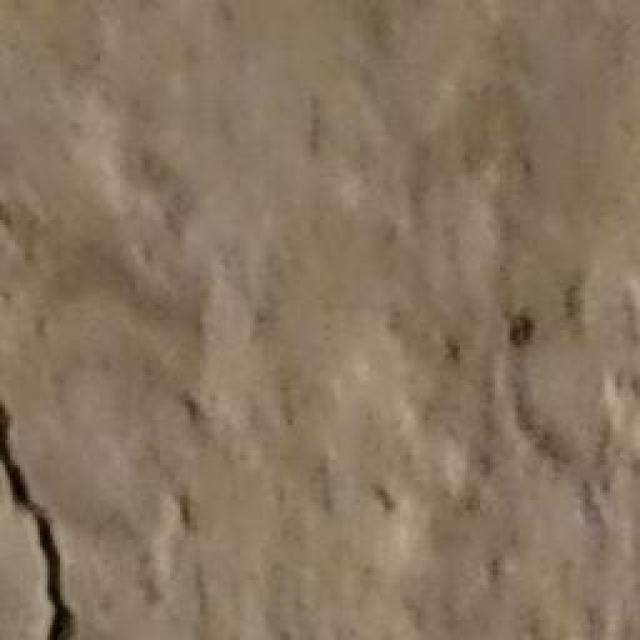Diagonal: (0, 376, 99, 640)
Transverse: (92, 0, 640, 640)
